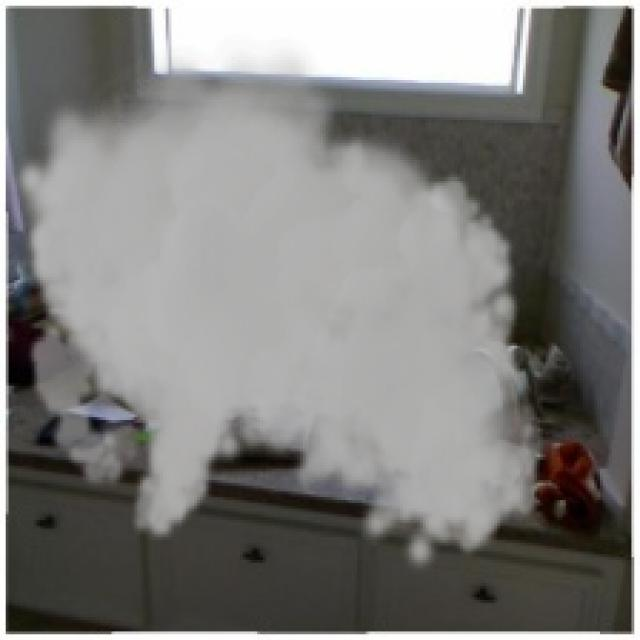smoke: (11, 34, 546, 574)
